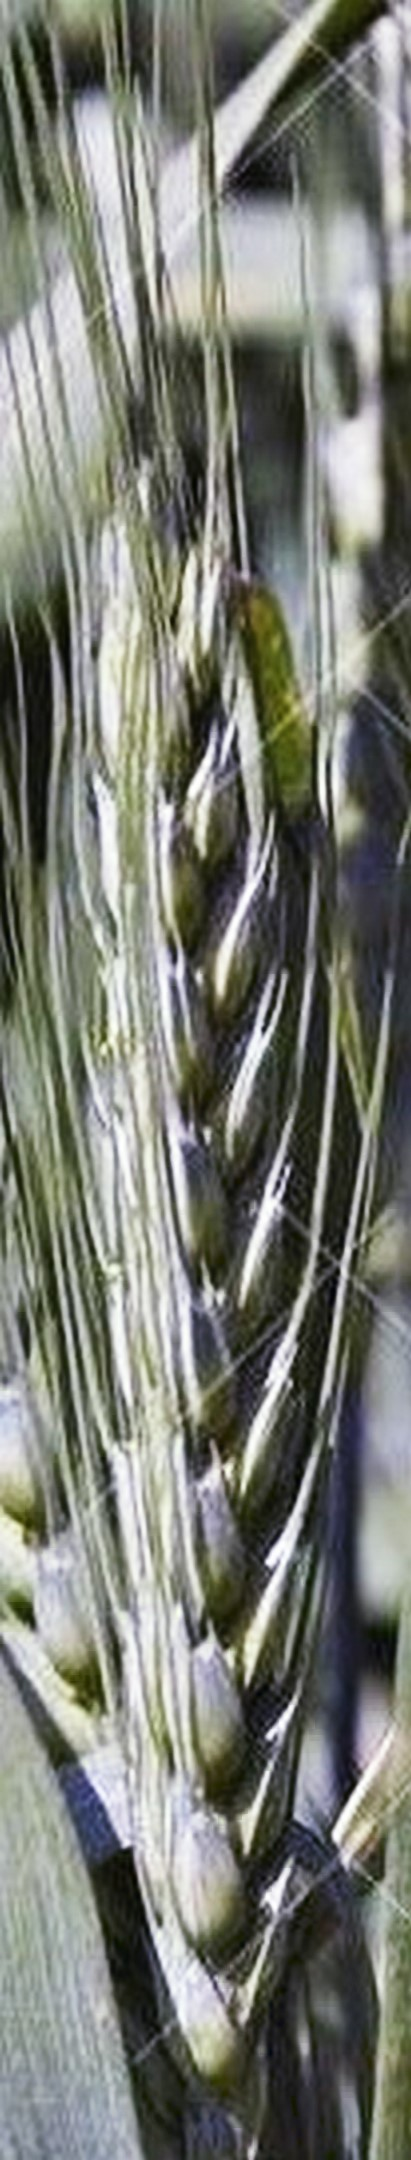Healthy Wheat: (52, 449, 411, 1952)
